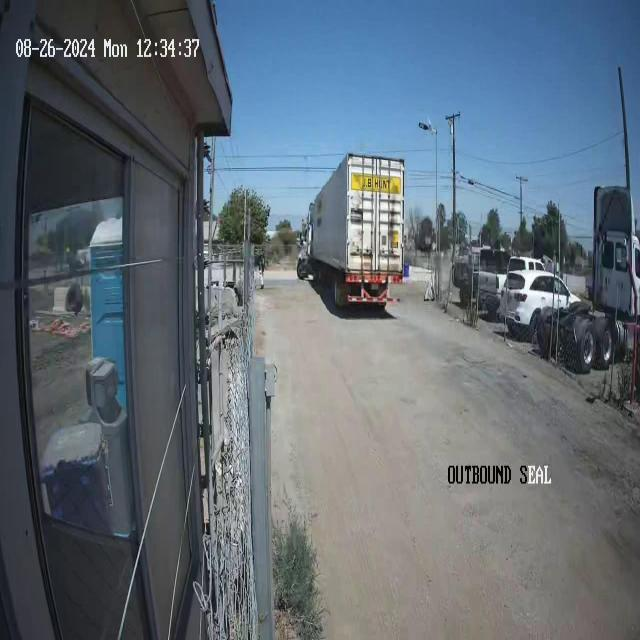TRUCK_OUT: (296, 150, 406, 310)
